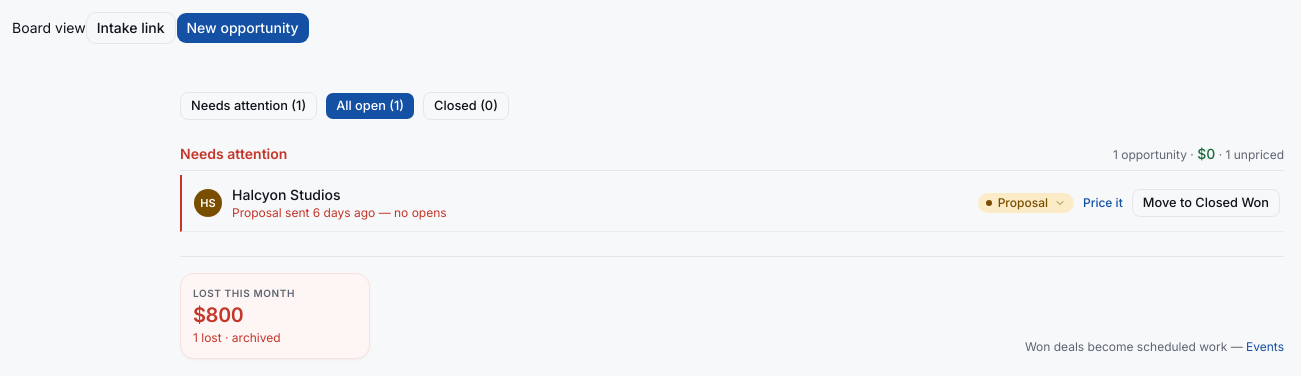
it: PipelineListClient › shows a pending label and disables the advance button while the move is in flight
Click the button "Move to Closed Won": x=1206, y=203 [1132,189,1280,217]
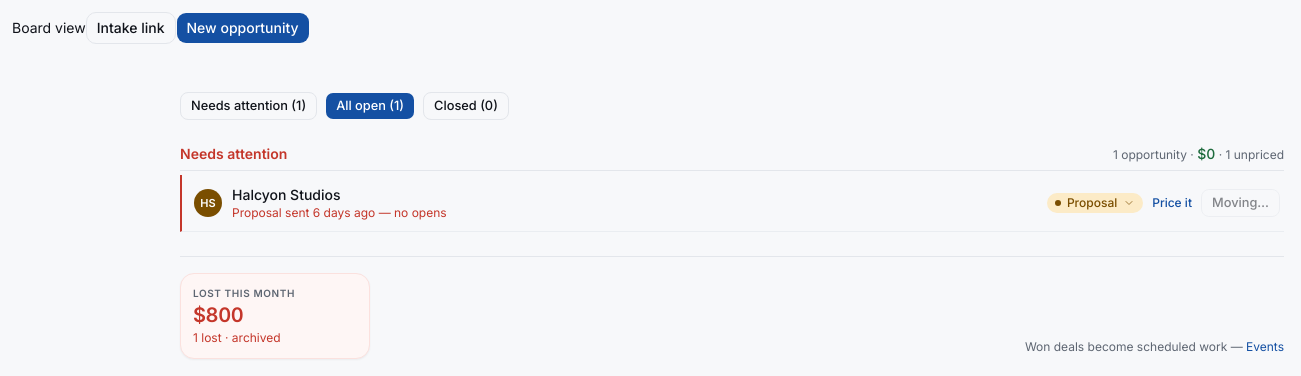
Expected: the button "Moving…" is disabled, [1201,189,1280,217]
Expected: the button "Move to Closed Won" is gone
